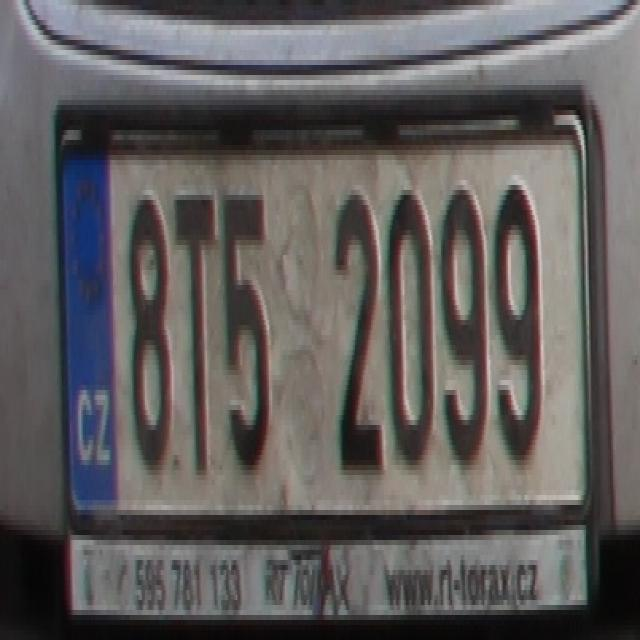0: (388, 180, 436, 475)
2: (333, 180, 387, 480)
5: (220, 190, 274, 470)
8: (130, 190, 176, 480)
9: (441, 175, 492, 465), (492, 175, 543, 465)
T: (174, 185, 222, 490)
